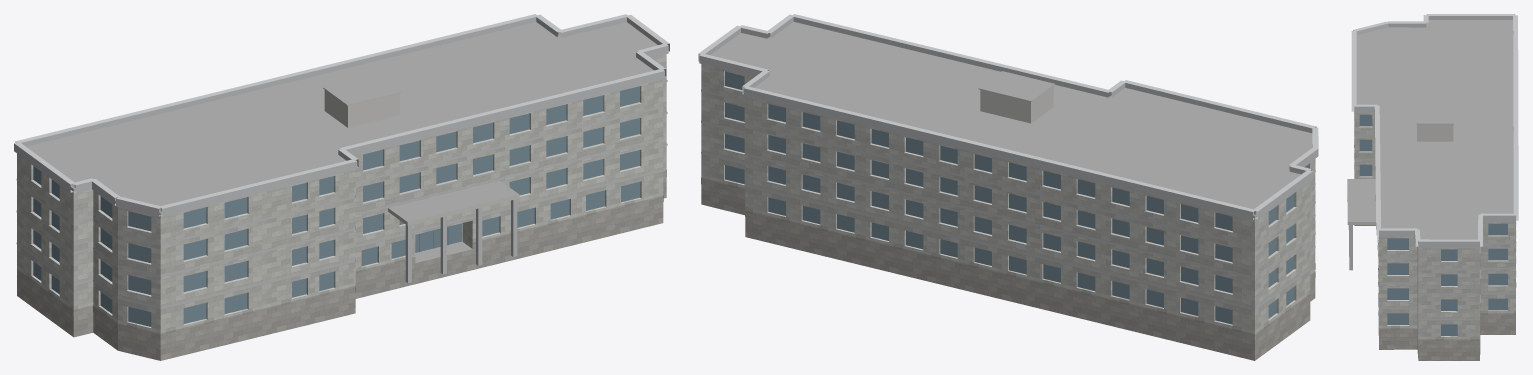
3 views of the same model, side by side, from view 1: azimuth 30°, elevation 25°; view 2: azimuth 150°, elevation 25°; view 3: azimuth 270°, elevation 25° (orthographic). The views are drawn at different scales.
Visible parts, largest first — view 1: indSysEngE2_2__wall, indSysEngE2_2__roof, indSysEngE2_2__trim, indSysEngE2_2__glass, indSysEngE2_2__base, indSysEngE2_2__wall2, indSysEngE2_2__column; view 2: indSysEngE2_2__wall, indSysEngE2_2__roof, indSysEngE2_2__trim, indSysEngE2_2__glass, indSysEngE2_2__base, indSysEngE2_2__wall2; view 3: indSysEngE2_2__roof, indSysEngE2_2__wall, indSysEngE2_2__trim, indSysEngE2_2__glass, indSysEngE2_2__base, indSysEngE2_2__wall2, indSysEngE2_2__column.
Boxes of the visible parts, box(x1,y1,x2,y2) form: indSysEngE2_2__wall: box(17, 54, 666, 339); indSysEngE2_2__roof: box(26, 22, 657, 263); indSysEngE2_2__trim: box(14, 14, 669, 309); indSysEngE2_2__glass: box(33, 86, 640, 326); indSysEngE2_2__base: box(17, 170, 666, 360); indSysEngE2_2__wall2: box(324, 90, 519, 225); indSysEngE2_2__column: box(405, 199, 517, 282); indSysEngE2_2__wall: box(701, 64, 1315, 339); indSysEngE2_2__roof: box(710, 22, 1312, 215); indSysEngE2_2__trim: box(698, 14, 1318, 310); indSysEngE2_2__glass: box(725, 71, 1307, 324); indSysEngE2_2__base: box(701, 177, 1315, 360); indSysEngE2_2__wall2: box(980, 86, 1053, 123); indSysEngE2_2__roof: box(1347, 20, 1513, 241); indSysEngE2_2__wall: box(1354, 113, 1515, 341); indSysEngE2_2__trim: box(1351, 14, 1518, 320); indSysEngE2_2__glass: box(1359, 114, 1507, 336); indSysEngE2_2__base: box(1354, 145, 1516, 360); indSysEngE2_2__wall2: box(1347, 124, 1453, 224); indSysEngE2_2__column: box(1348, 225, 1352, 270).
Bounding box in the file's own units: 74.2 × 20.5 × 23.61.
Materials: 9 (2 with a texture image).
